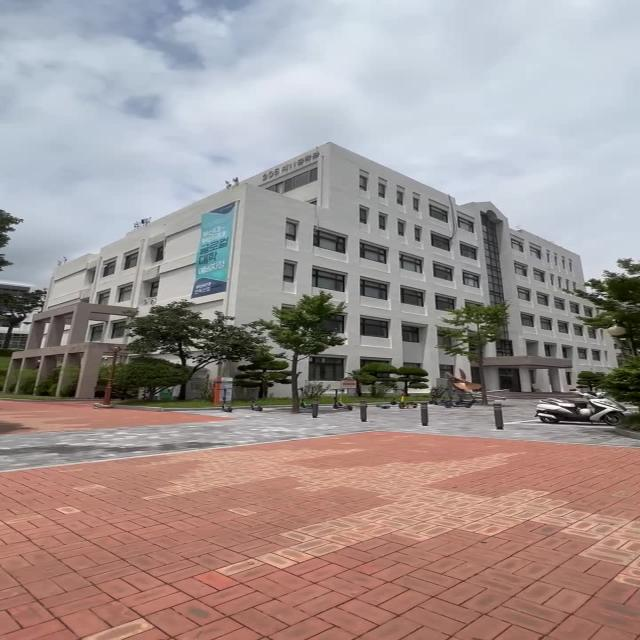building: (238, 155, 582, 305)
